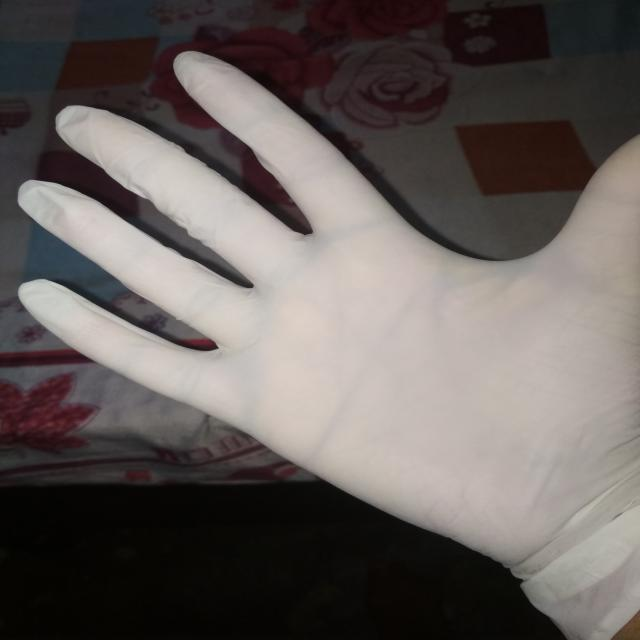gloved_hand: (12, 46, 636, 636)
